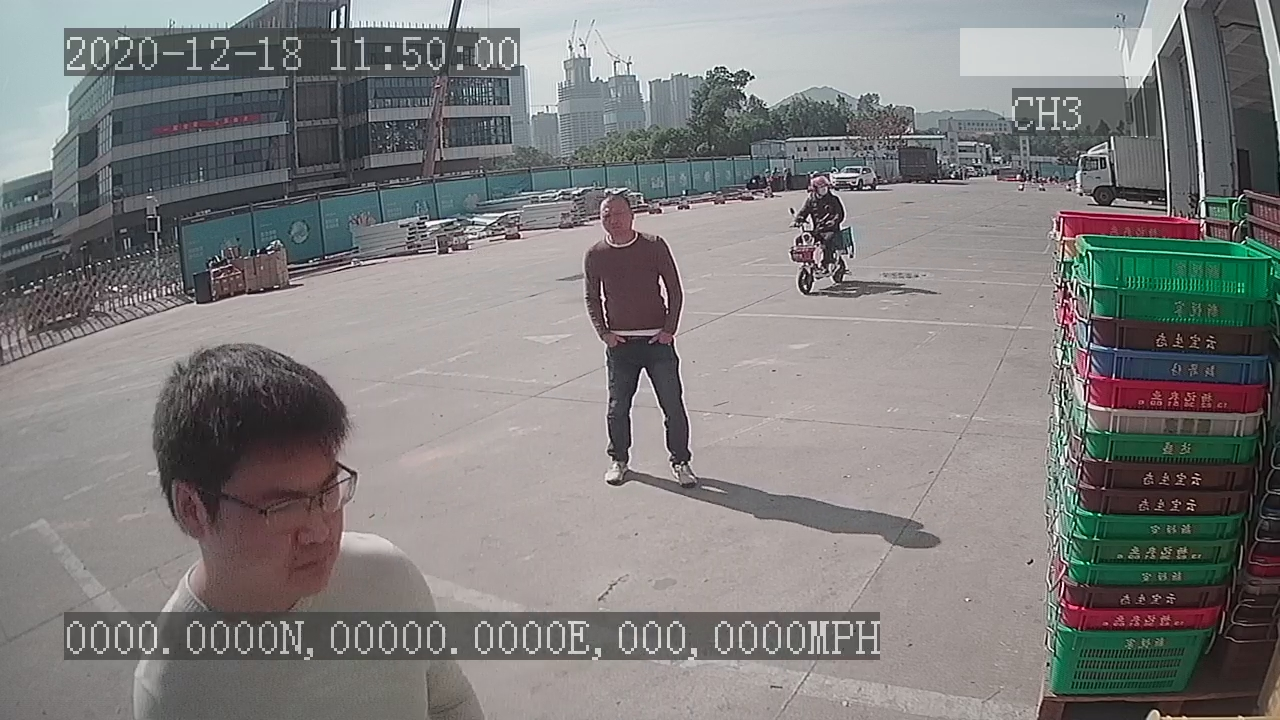person: (574, 186, 706, 494)
